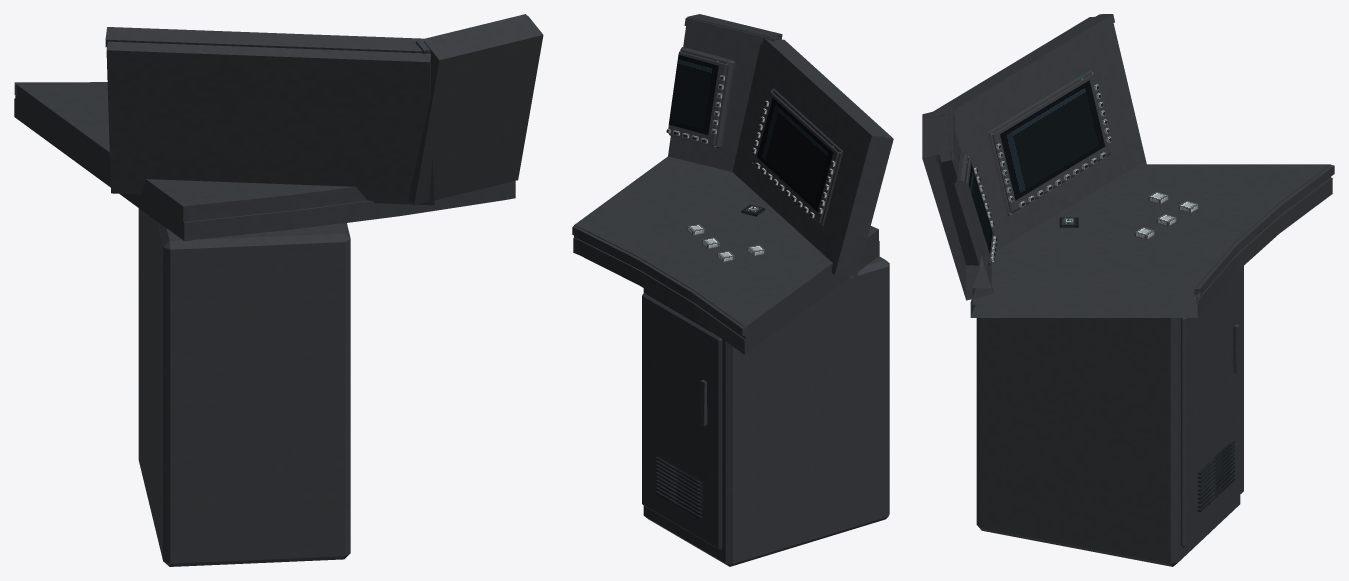
The model's file is cab_static_left.obj.
3 views of the same model, side by side, from view 1: azimuth 30°, elevation 25°; view 2: azimuth 150°, elevation 25°; view 3: azimuth 270°, elevation 25° (orthographic). The views are drawn at different scales.
Bounding box in the file's own units: 0.9407 × 1.37 × 1.14.
